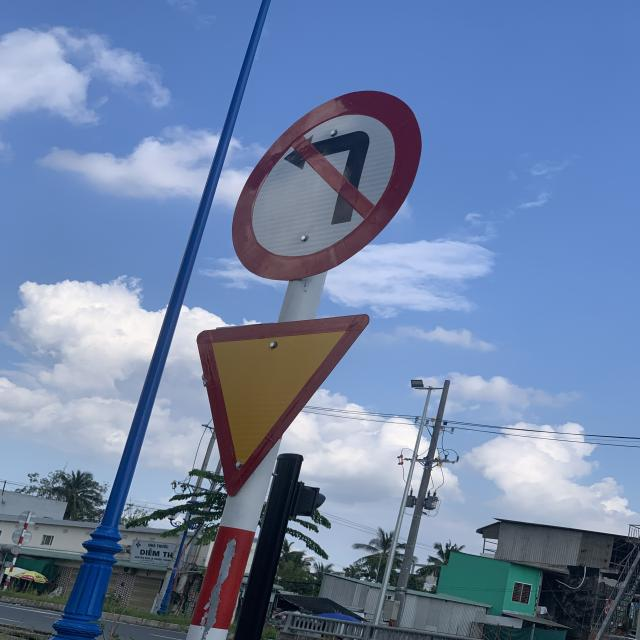Cam_Re_Trai: (227, 91, 423, 286)
Gioi_Han_Toc_Do_25: (199, 313, 365, 497)
